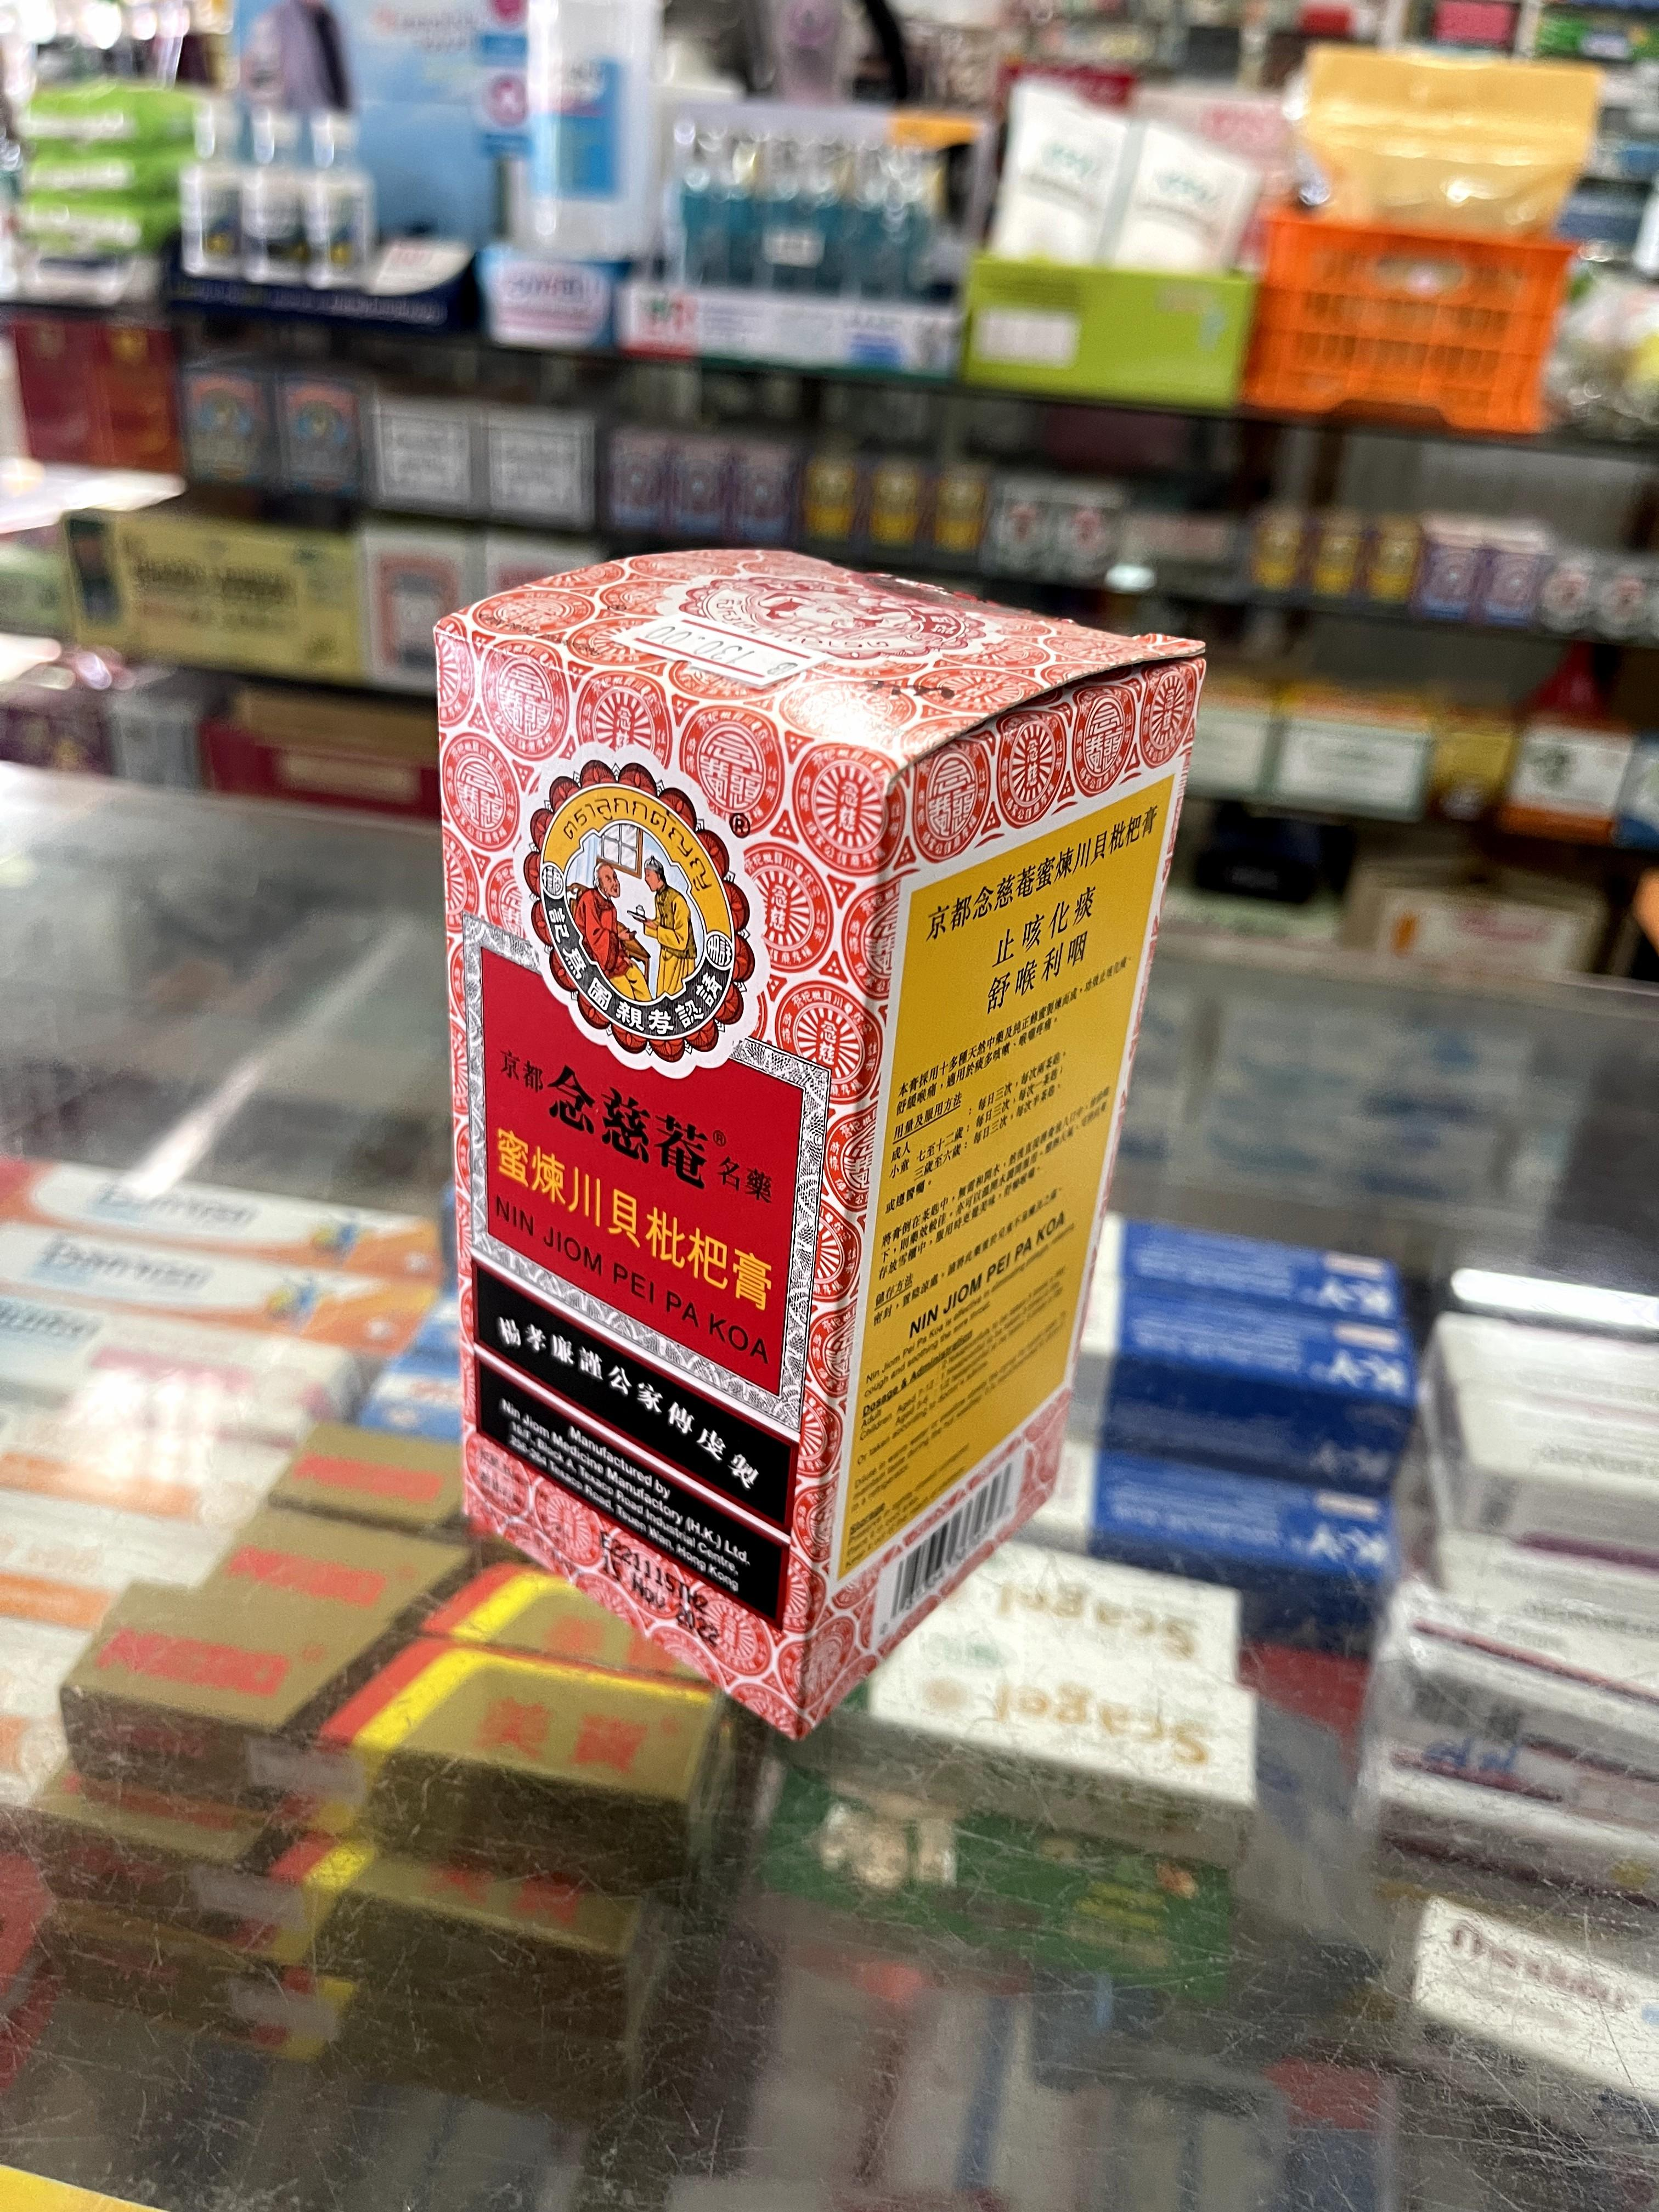Pei-Pa-Koa_Big: (439, 549, 1195, 1733)
